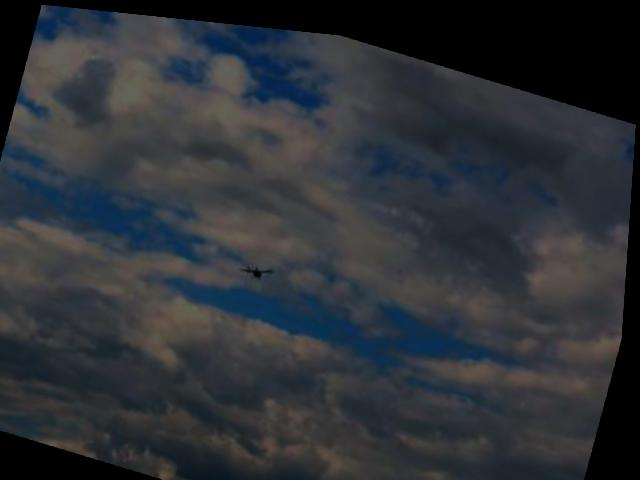uav: (240, 251, 279, 281)
